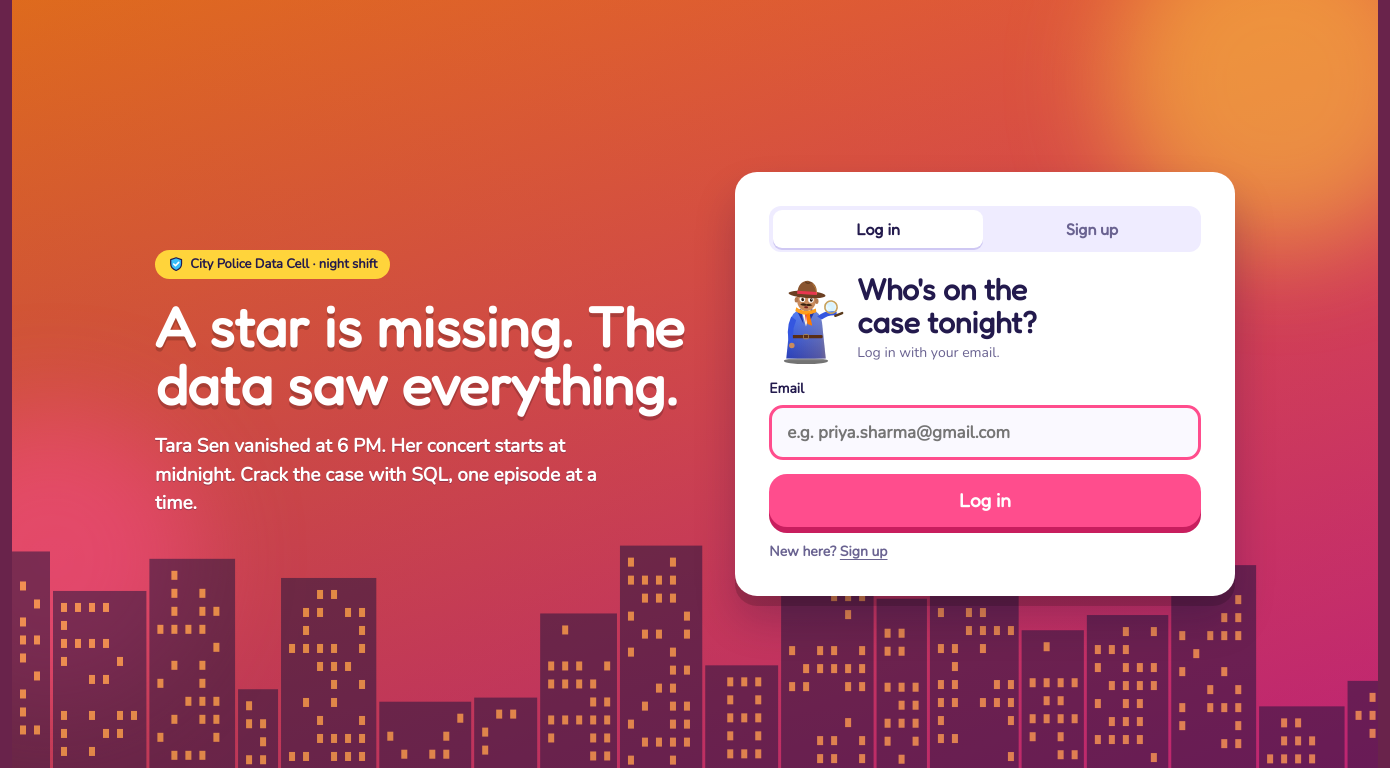
Scenario: log in › an unknown email goes to Sign up with the email filled in; an unknown old ID just says it is not found
Type "NW4040" into the field labelled "Email" at [985, 433], box [769,405,1201,460]
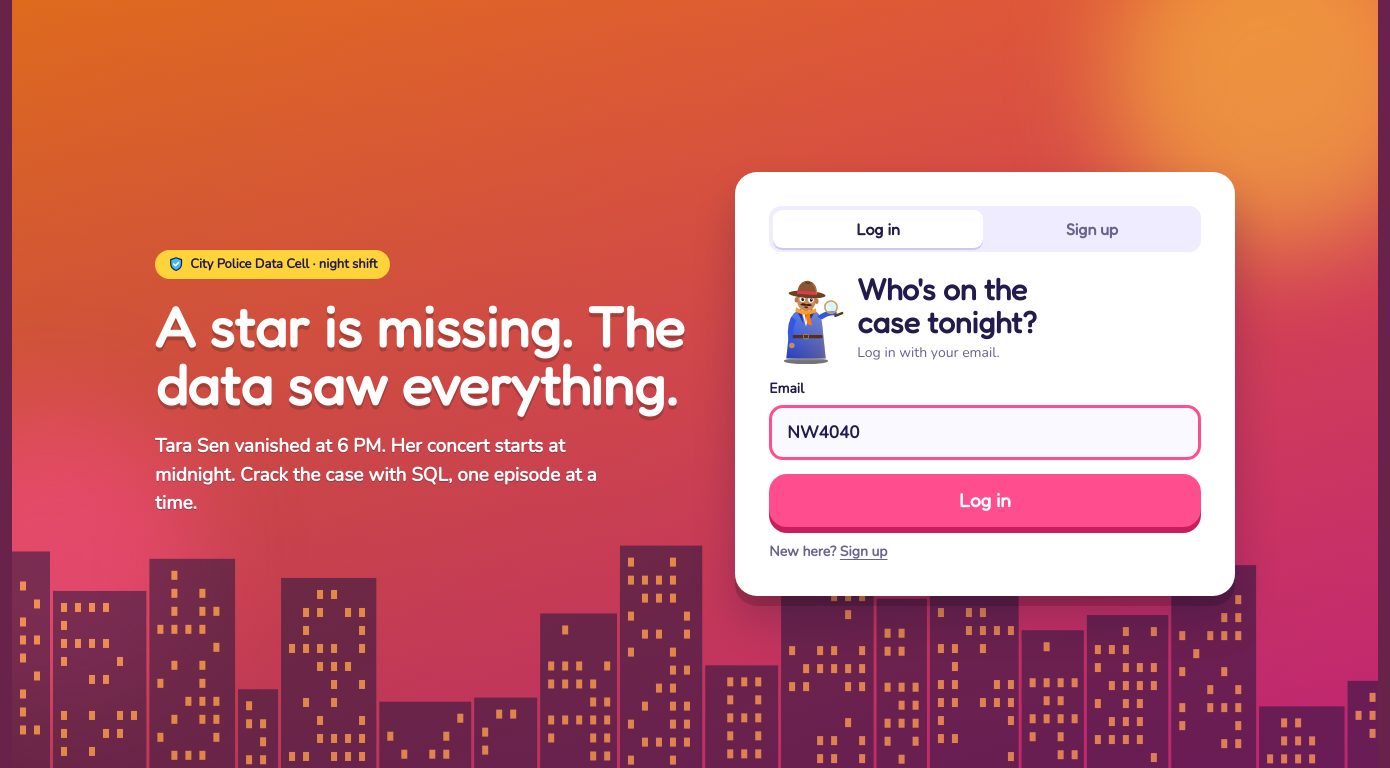
Click the button "Log in" at [985, 501], box [769,474,1201,527]
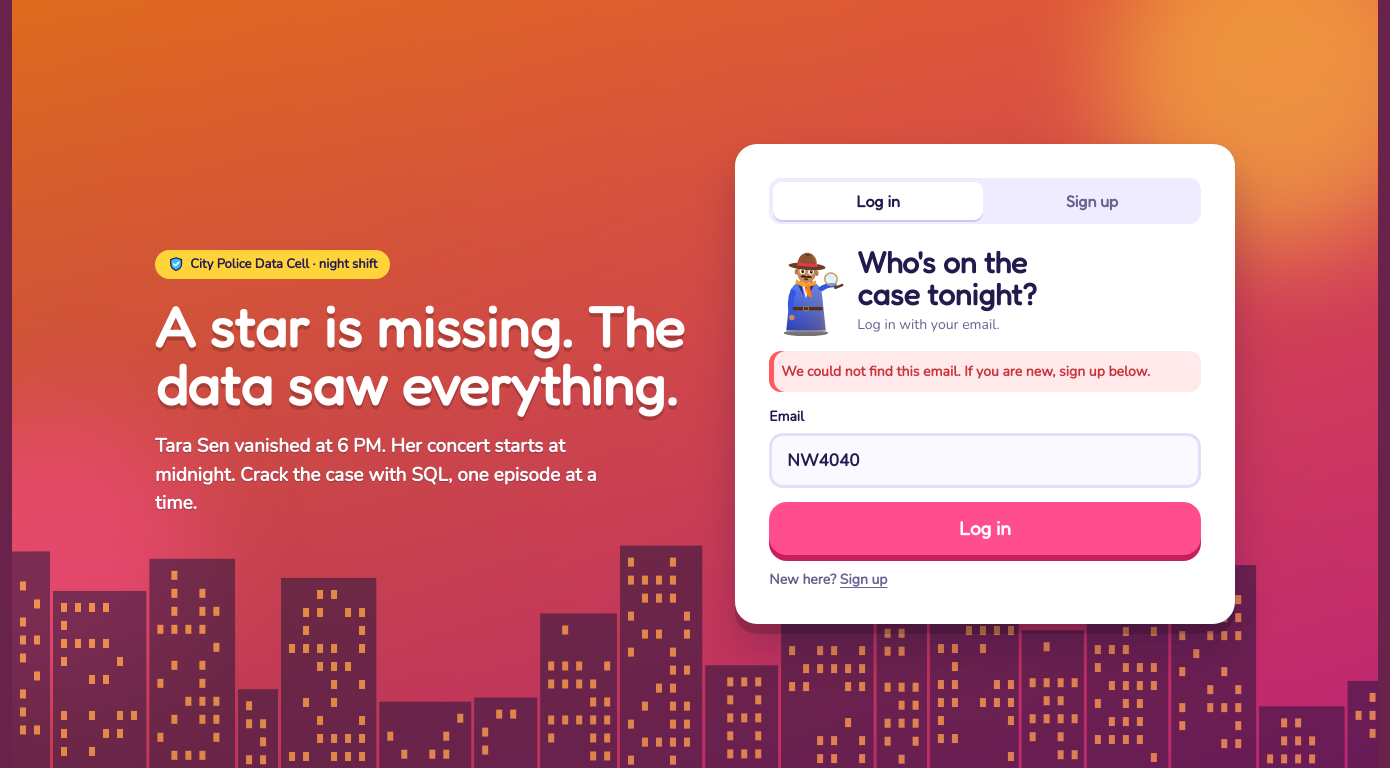
Expected: the message shows "could not find this email", [781,362,1150,381]
Clear the field labelled "Email" at [985, 460], box [769,433,1201,488]
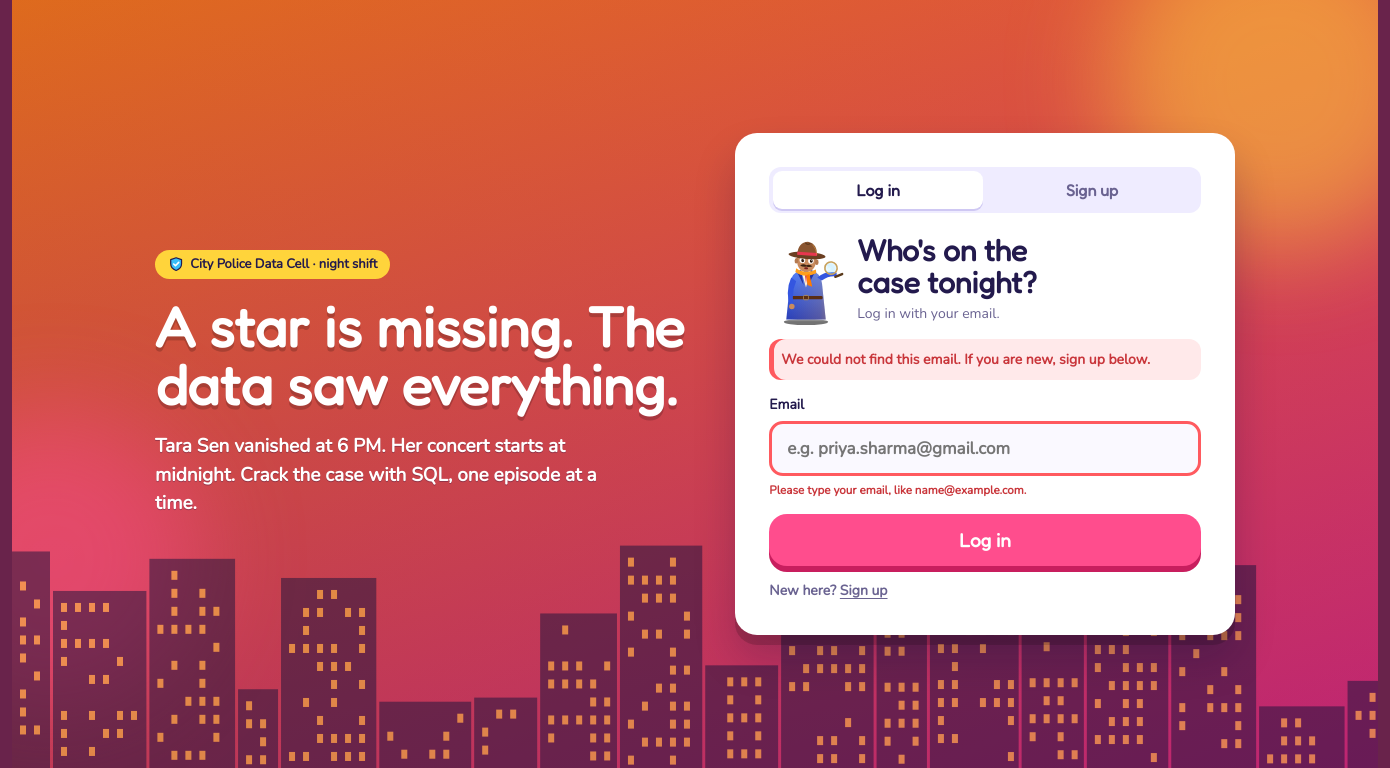
Type "new.student@yahoo.in" into the field labelled "Email" at [985, 449], box [769,421,1201,476]
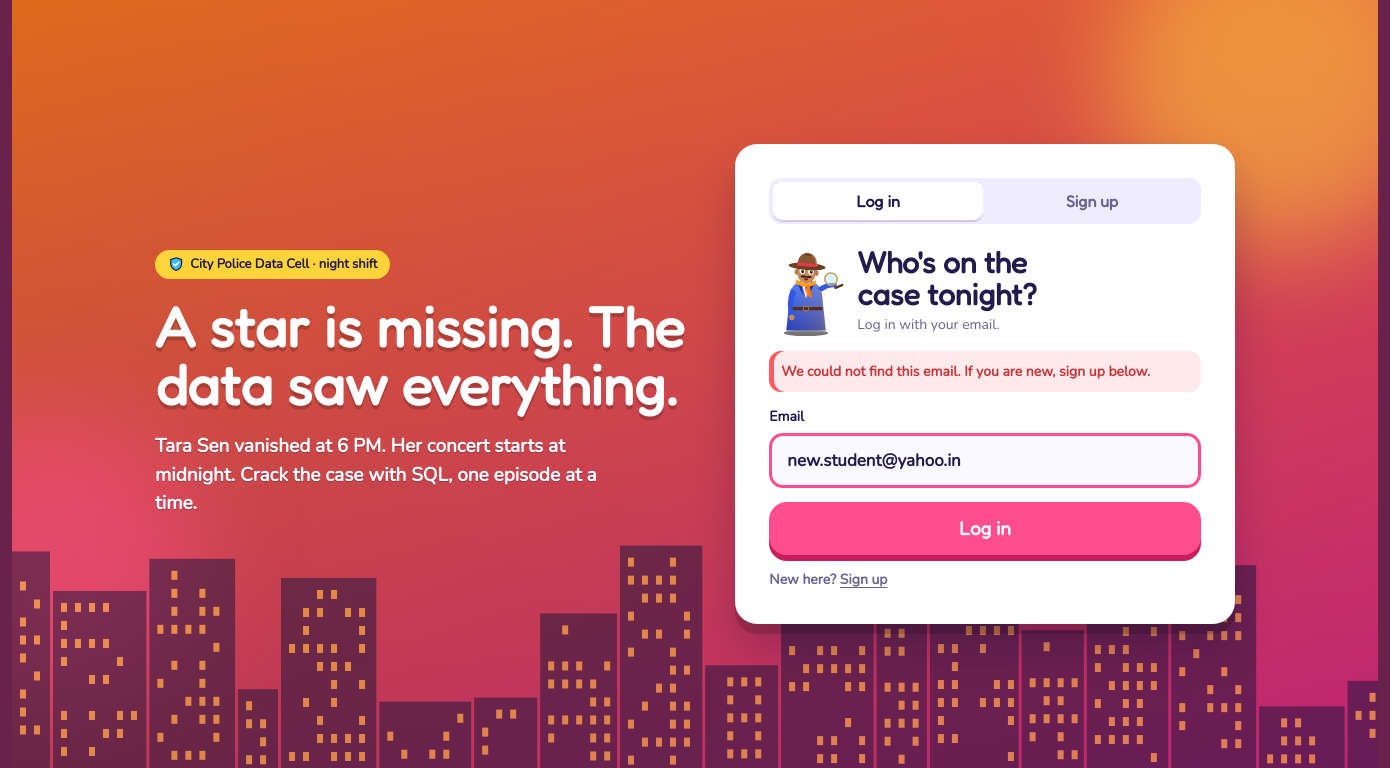
Click the button "Log in" at [985, 528], box [769,502,1201,555]
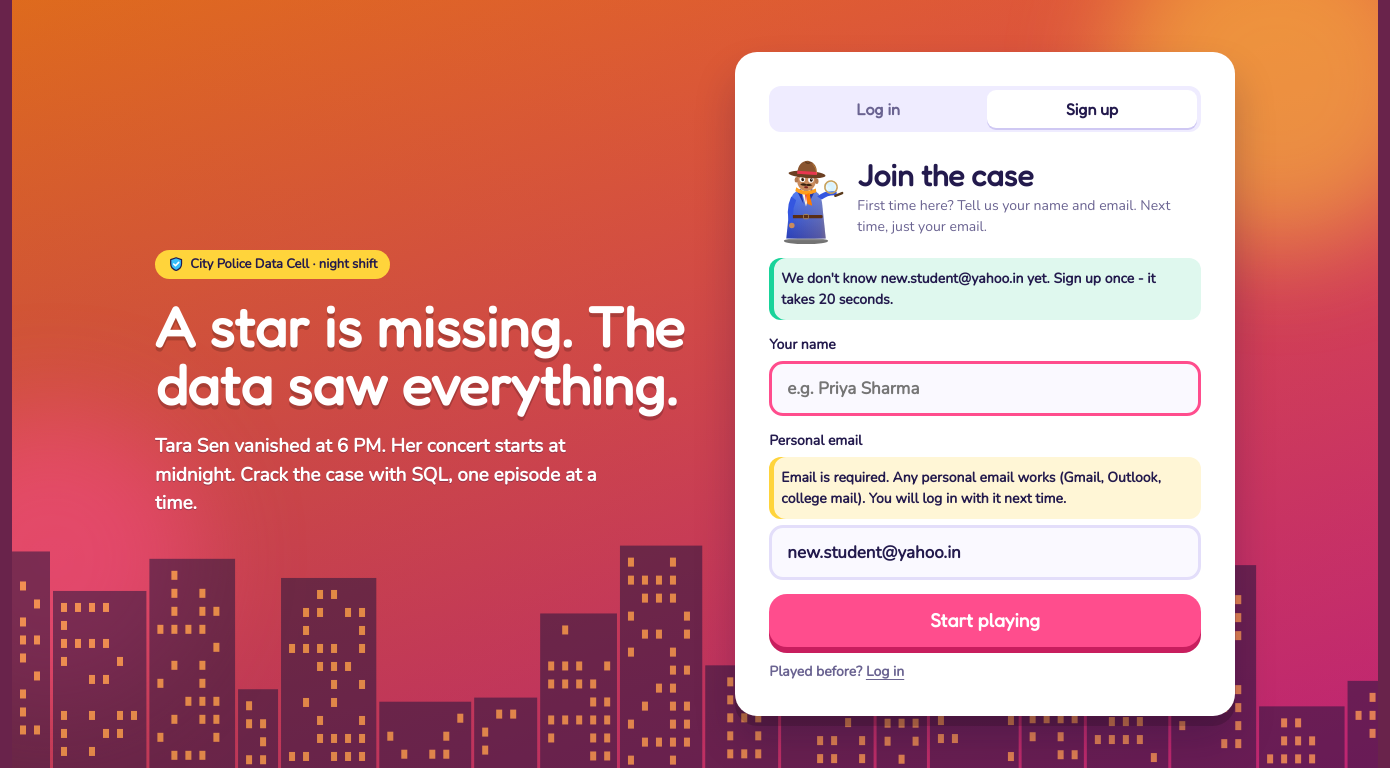
Expected: the text "We don't know new.student@yahoo.in yet. Sign up once - it takes 20 seconds." is shown, [769,258,1201,320]
Expected: the field labelled "Personal email" holds "new.student@yahoo.in", [769,525,1201,580]
